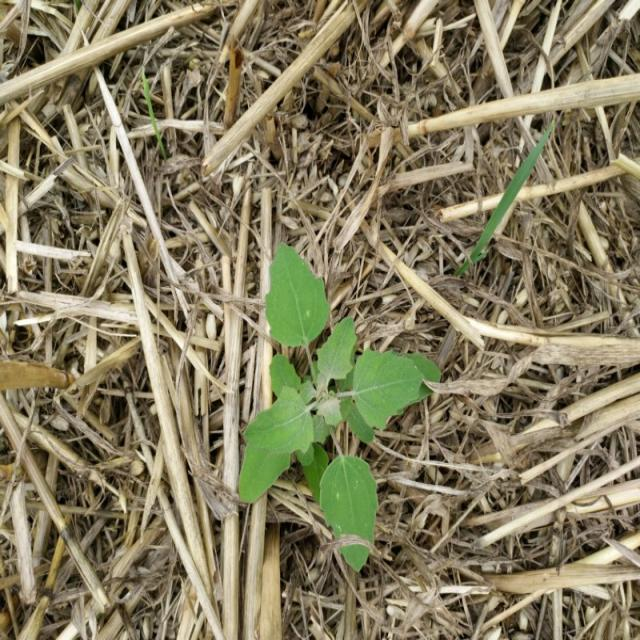ca: (239, 247, 429, 501)
